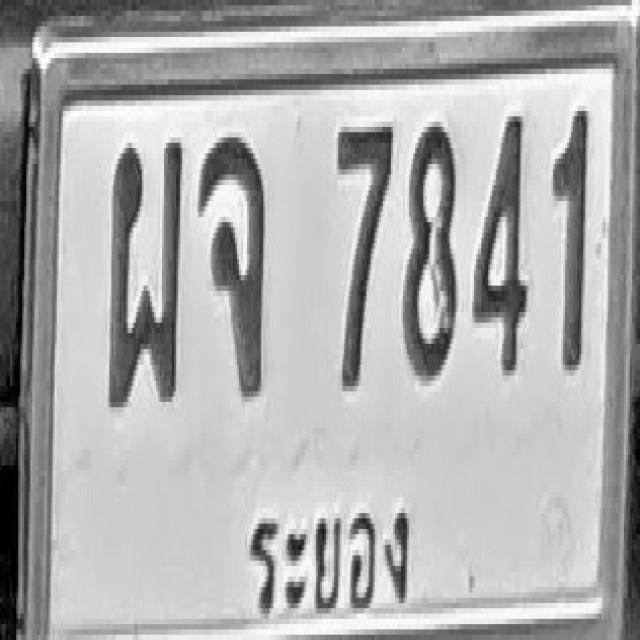1: (552, 106, 588, 370)
17ChorChan: (198, 132, 266, 397)
37PhorPhueng: (108, 138, 182, 408)
4: (473, 111, 528, 376)
7: (336, 119, 393, 389)
8: (402, 122, 457, 380)
Rayong: (241, 490, 414, 624)
